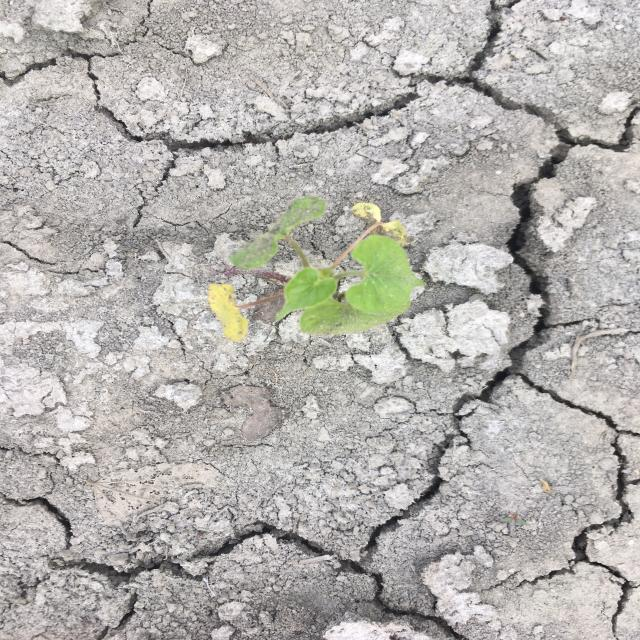MorningGlory: (207, 195, 429, 344)
